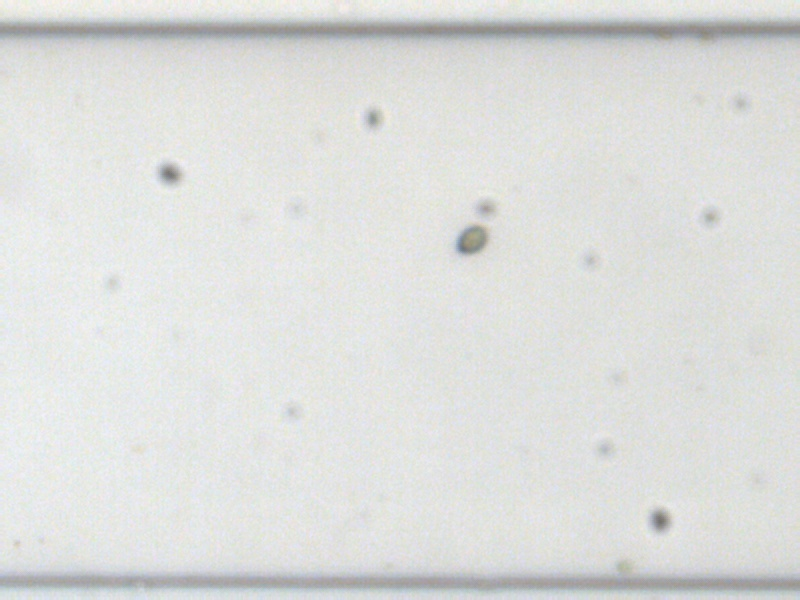Chlorella: (613, 556, 631, 573)
Dunaliella salina: (452, 222, 485, 255)
